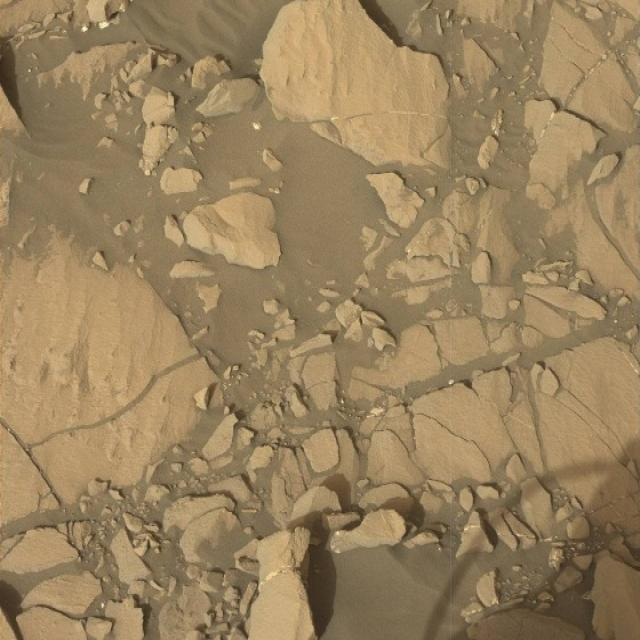rock: (257, 0, 458, 166), (246, 522, 322, 640), (329, 505, 414, 551)
